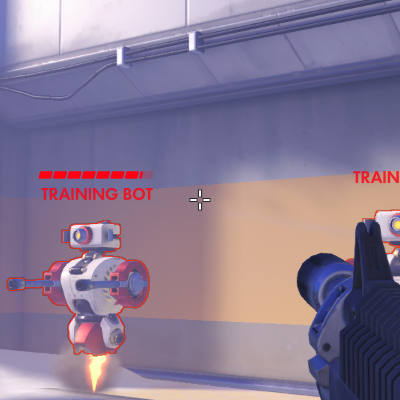hpbar: (38, 171, 154, 179)
